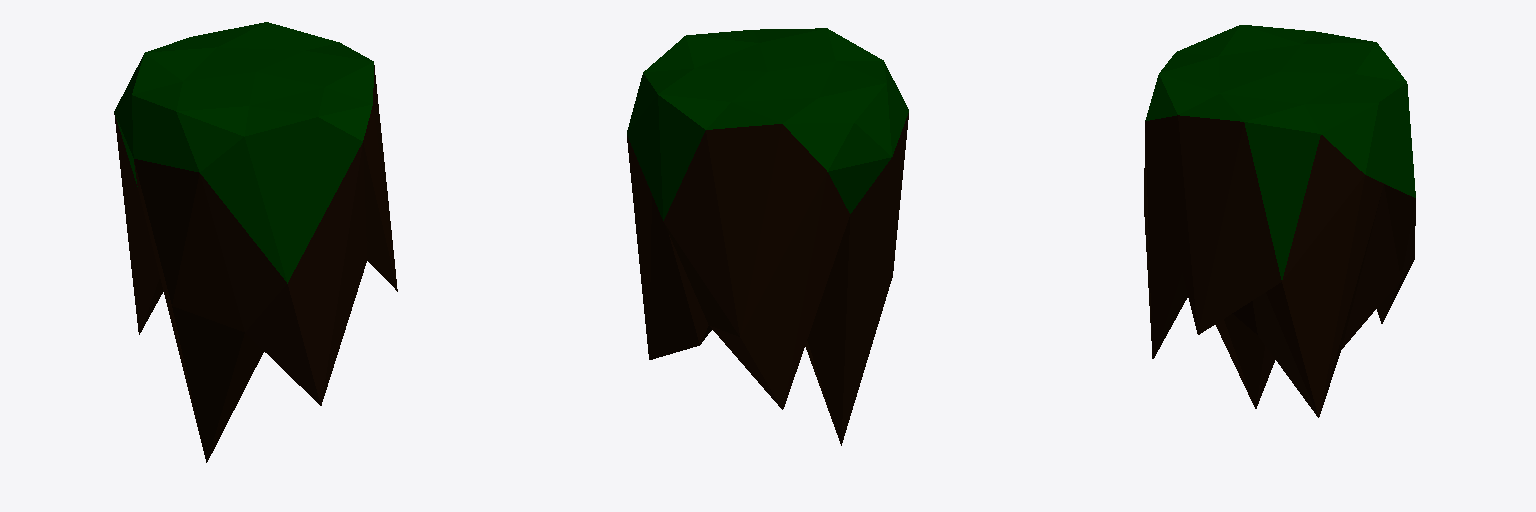
File: floatingisland_6.obj
The picture shows the model from 3 angles: view 1: azimuth 30°, elevation 25°; view 2: azimuth 150°, elevation 25°; view 3: azimuth 270°, elevation 25°; orthographic projection.
Visible parts, largest first — view 1: Icosphere.002; view 2: Icosphere.002; view 3: Icosphere.002.
Part boxes in pixels (x1,y1,x2,y2): Icosphere.002: (114, 22, 397, 462); Icosphere.002: (627, 28, 908, 445); Icosphere.002: (1144, 25, 1415, 417).
Size of the model in its own units: 1.14 by 1.62 by 1.09.